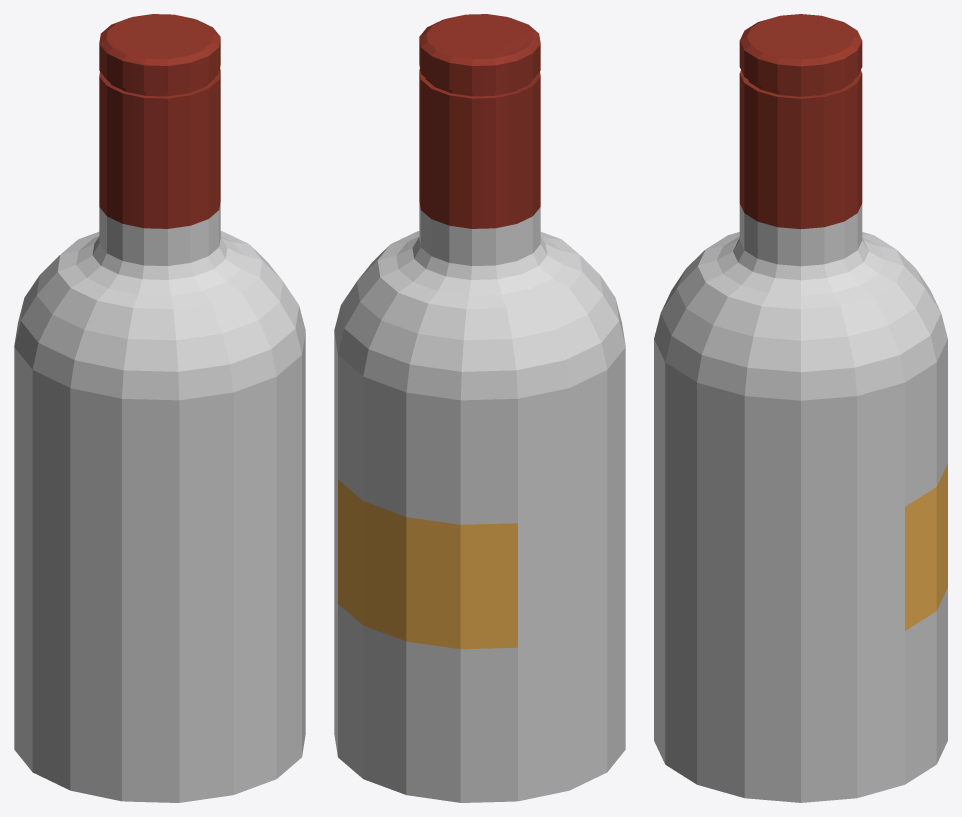
File: fancy_glass_bottle_05.obj
3 renders of one model, left to right at view 1: azimuth 30°, elevation 25°; view 2: azimuth 150°, elevation 25°; view 3: azimuth 270°, elevation 25°, orthographic.
Visible parts, largest first — view 1: fancy_glass_bottle_05_m_Glass, fancy_glass_bottle_05_mi_CustomPropMain; view 2: fancy_glass_bottle_05_m_Glass, fancy_glass_bottle_05_mi_CustomPropMain; view 3: fancy_glass_bottle_05_m_Glass, fancy_glass_bottle_05_mi_CustomPropMain.
Part boxes in pixels (bbox=[...]): fancy_glass_bottle_05_m_Glass: bbox=[14, 202, 305, 802]; fancy_glass_bottle_05_mi_CustomPropMain: bbox=[99, 14, 220, 228]; fancy_glass_bottle_05_m_Glass: bbox=[334, 202, 625, 802]; fancy_glass_bottle_05_mi_CustomPropMain: bbox=[338, 14, 540, 649]; fancy_glass_bottle_05_m_Glass: bbox=[654, 203, 947, 802]; fancy_glass_bottle_05_mi_CustomPropMain: bbox=[739, 14, 947, 630].
Bounding box in the file's own units: 0.12 × 0.3221 × 0.12.
2 materials, 1 textured.
